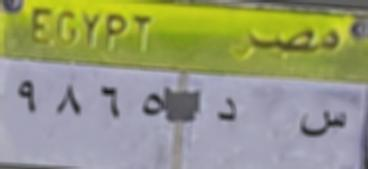5: (134, 87, 168, 122)
6: (97, 82, 126, 124)
8: (53, 80, 86, 122)
9: (14, 74, 40, 118)
daal: (207, 88, 242, 128)
seen: (296, 103, 351, 144)
